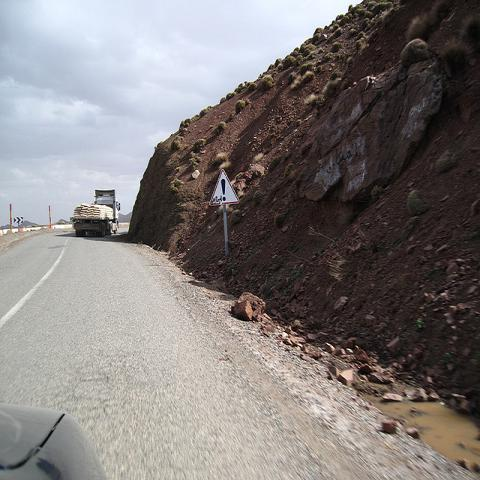car: (1, 406, 102, 474)
truck: (71, 189, 120, 237)
